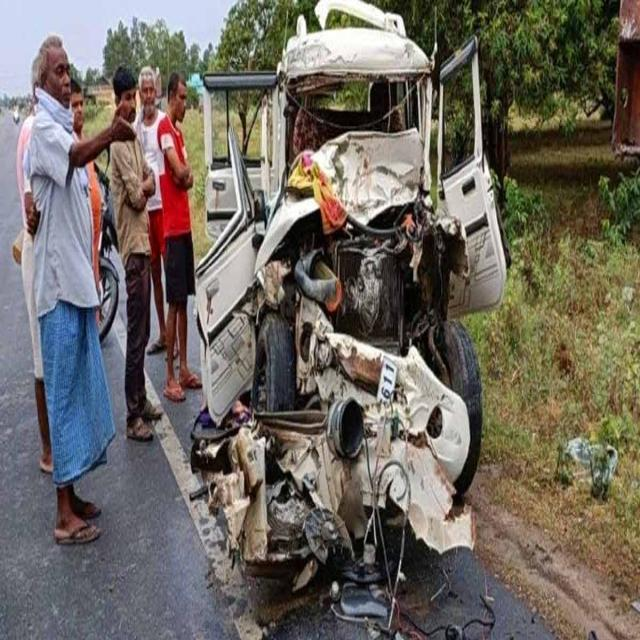accident: (191, 0, 506, 628)
